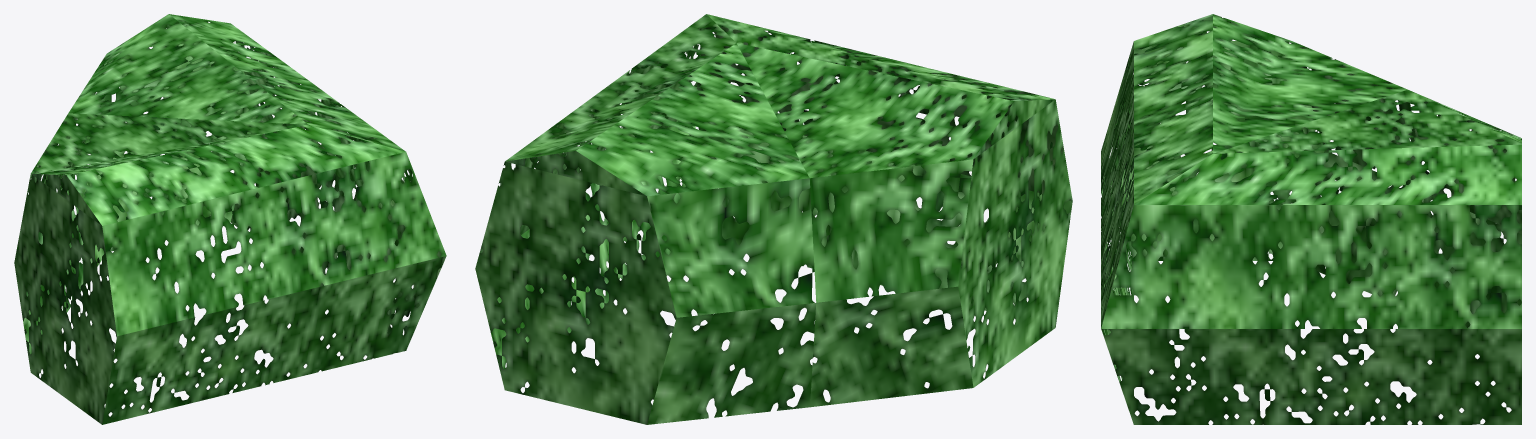
File: bush_square_corner_filled_spring.fbx
3 renders of one model, left to right at view 1: azimuth 30°, elevation 25°; view 2: azimuth 150°, elevation 25°; view 3: azimuth 270°, elevation 25°, orthographic. The views are drawn at different scales.
Parts seen in each view (by area): view 1: bush_square_corner_filled_spring; view 2: bush_square_corner_filled_spring; view 3: bush_square_corner_filled_spring.
Boxes of the visible parts, <box> form: bush_square_corner_filled_spring: <box>14,14,446,424</box>; bush_square_corner_filled_spring: <box>475,14,1072,424</box>; bush_square_corner_filled_spring: <box>1101,14,1521,424</box>.
Size of the model in its own units: 136 by 87.65 by 135.
1 material, 1 textured.
